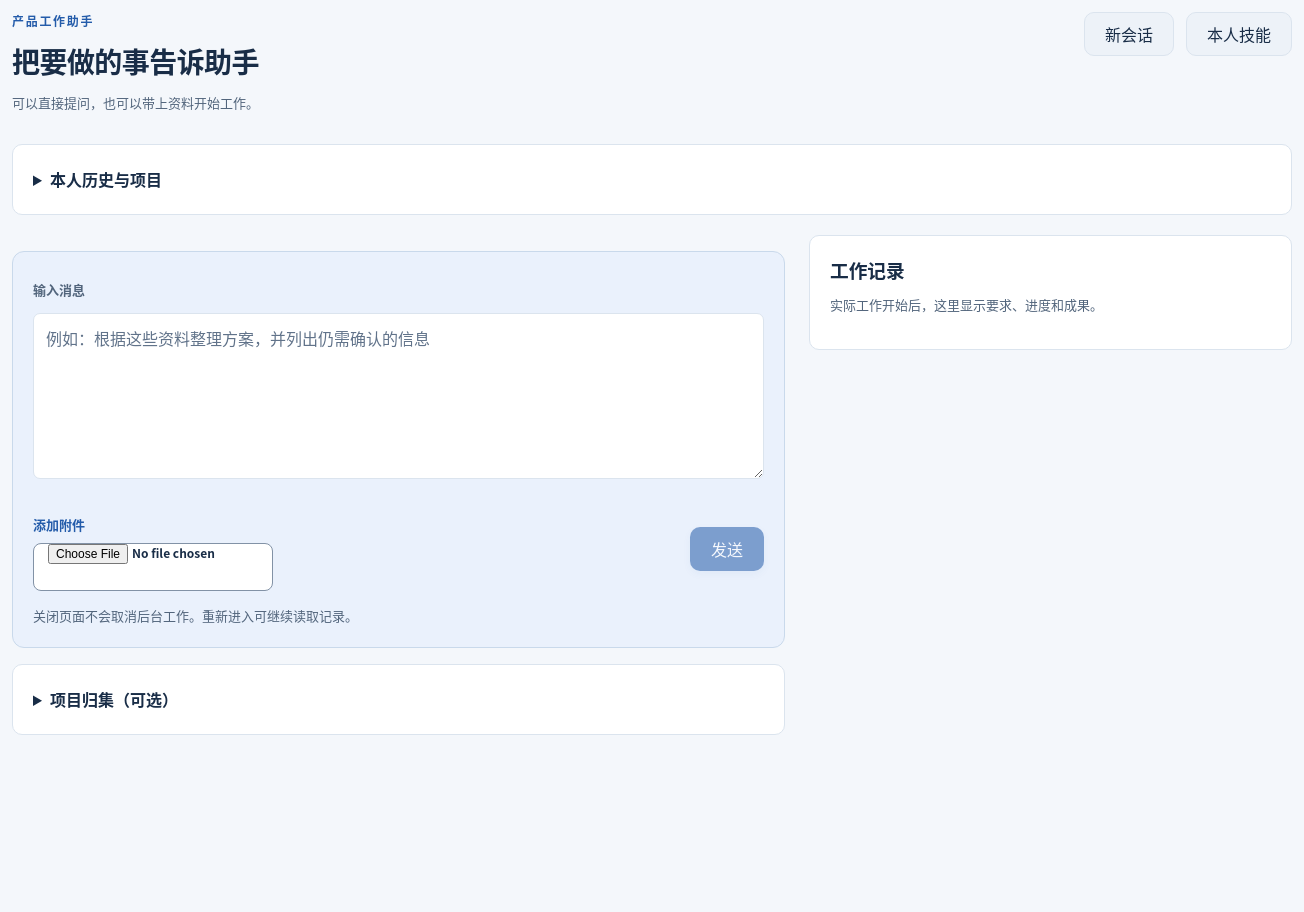
Test: asks directly without creating a project or work and preserves the deep link
This screenshot has width=1304, height=912.
Type "整理一下资料" into the text box labelled "输入消息" at x=398, y=396, box 33,313 -> 764,479
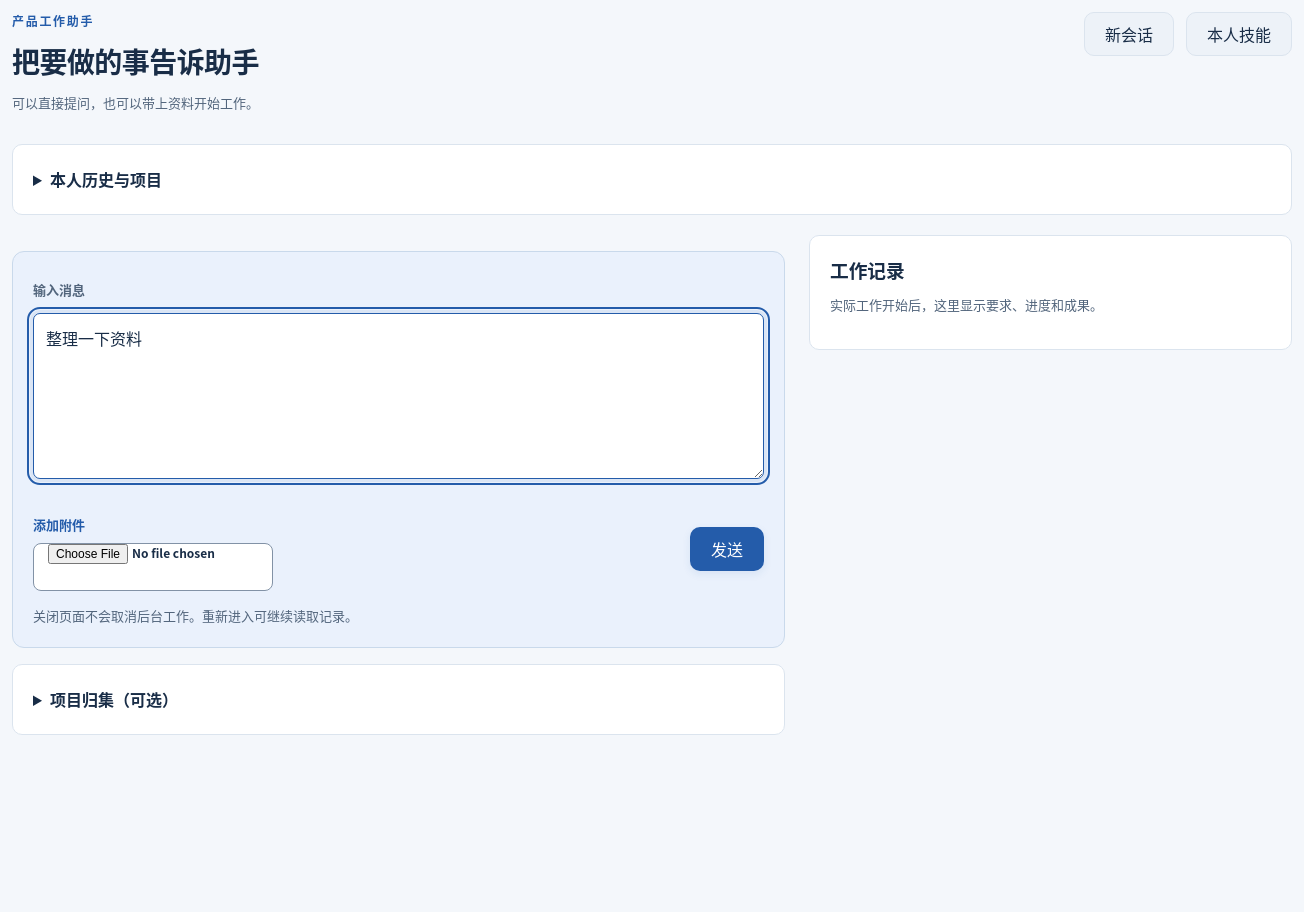
Click the button "发送" at x=727, y=549, box 690,527 -> 764,571
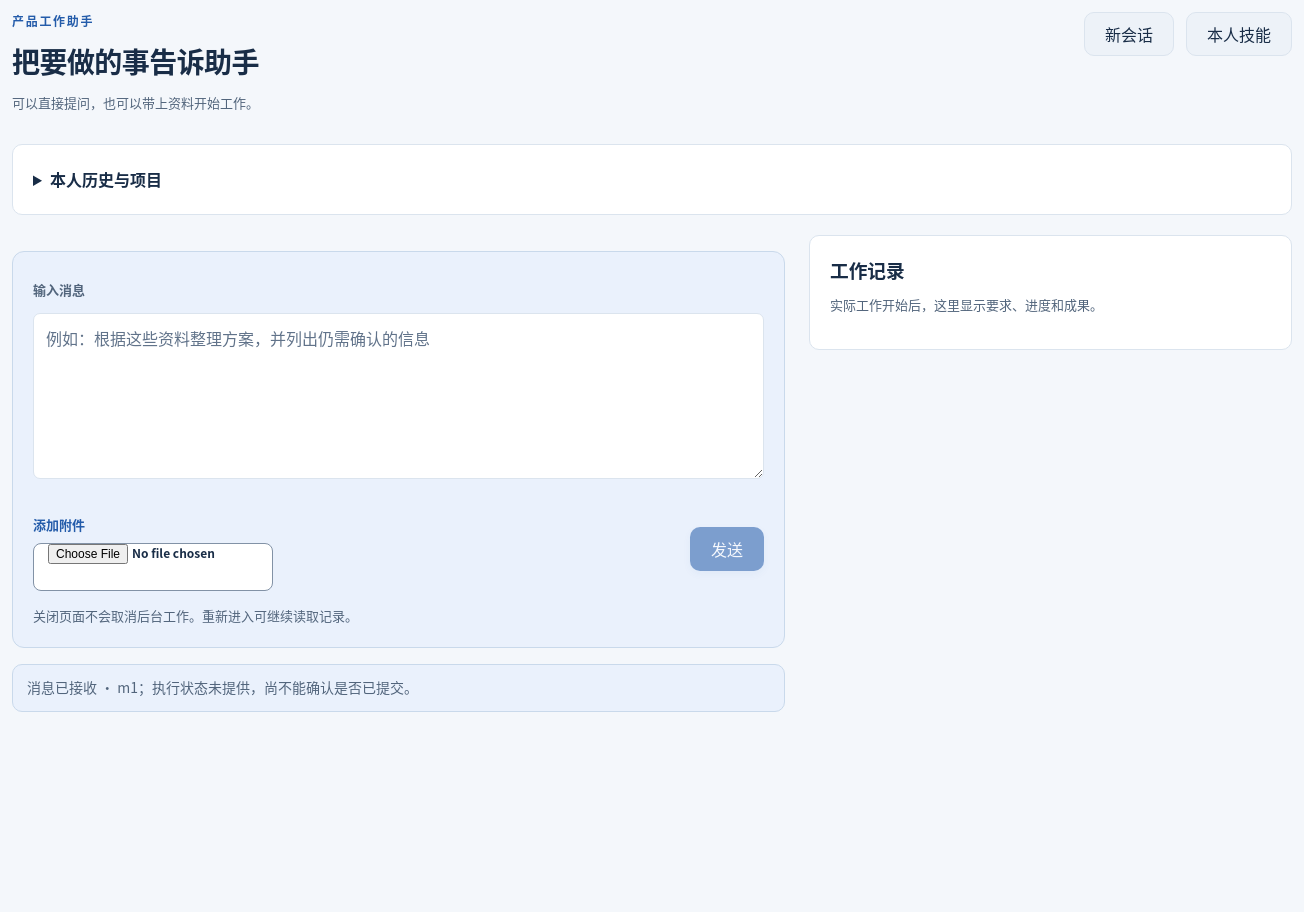
Check: the text "消息已接收 · m1；执行状态未提供，尚不能确认是否已提交。" is shown, box 12,664 -> 785,712
